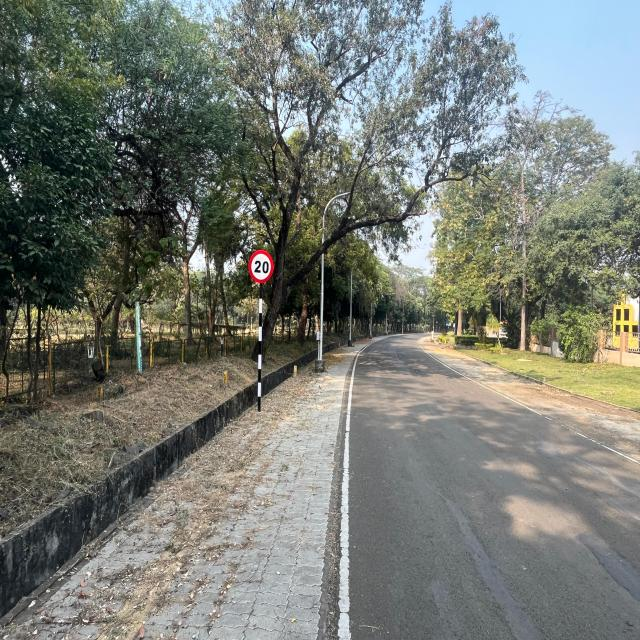forb_speed_over_20: (247, 248, 275, 285)
